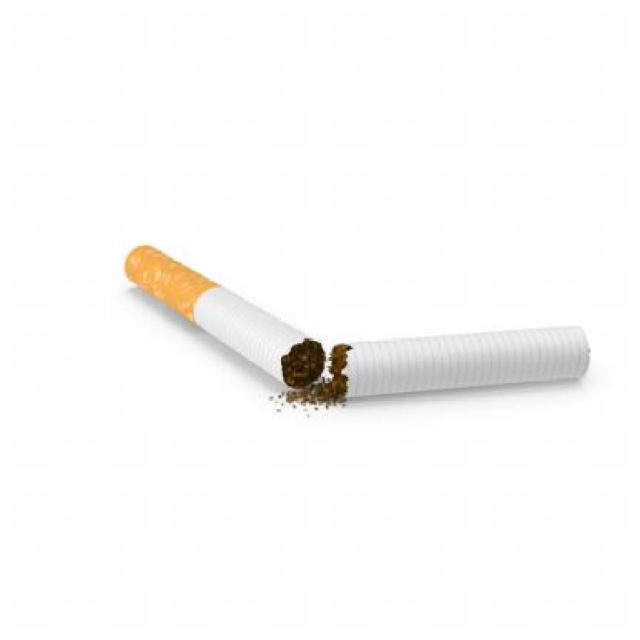cigarette: (114, 217, 315, 426), (333, 322, 612, 420)
